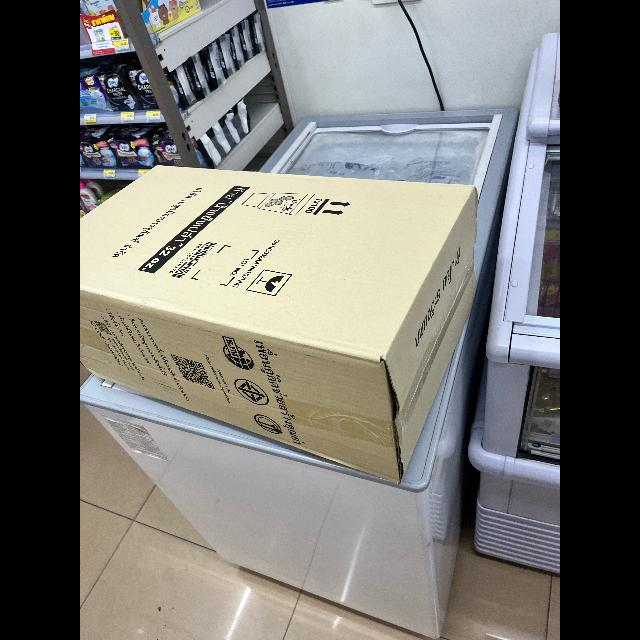cardboard_box: (80, 154, 482, 482)
